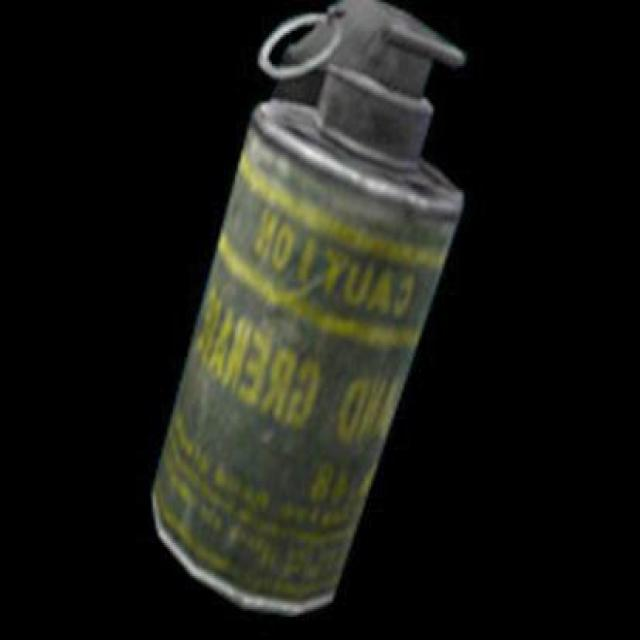grenade: (152, 1, 468, 616)
